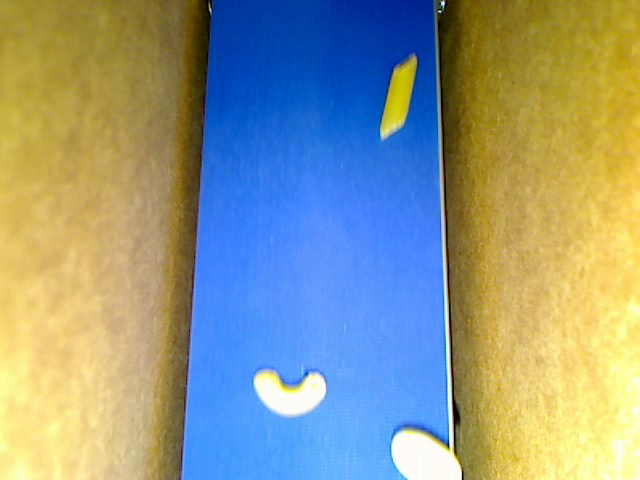elbow: (253, 368, 327, 416)
penne: (379, 54, 416, 140)
